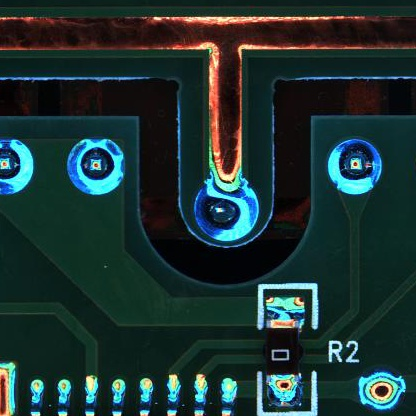spot: (193, 175, 260, 242), (64, 136, 126, 196), (326, 138, 383, 195), (351, 365, 411, 411)
